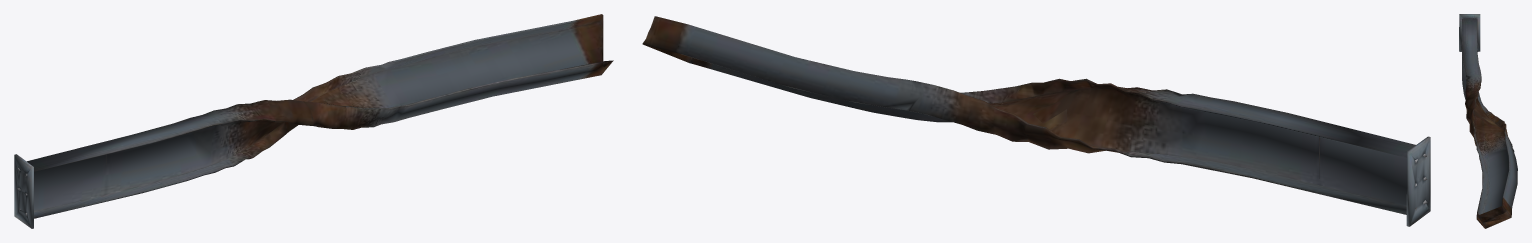
File: industrial_ibeam_twisted_lod2.glb
The picture shows the model from 3 angles, left to right: view 1: azimuth 30°, elevation 25°; view 2: azimuth 150°, elevation 25°; view 3: azimuth 270°, elevation 25°; orthographic projection. The views are drawn at different scales.
Parts seen in each view (by area): view 1: industrial_ibeam_twisted_paint; view 2: industrial_ibeam_twisted_paint; view 3: industrial_ibeam_twisted_paint.
Part boxes in pixels (<box>): industrial_ibeam_twisted_paint: <box>14,14,613,228</box>; industrial_ibeam_twisted_paint: <box>642,16,1430,226</box>; industrial_ibeam_twisted_paint: <box>1459,14,1517,228</box>.
Bounding box in the file's own units: 4.72 × 0.4996 × 0.6497.
Materials: 3 (1 with a texture image).
